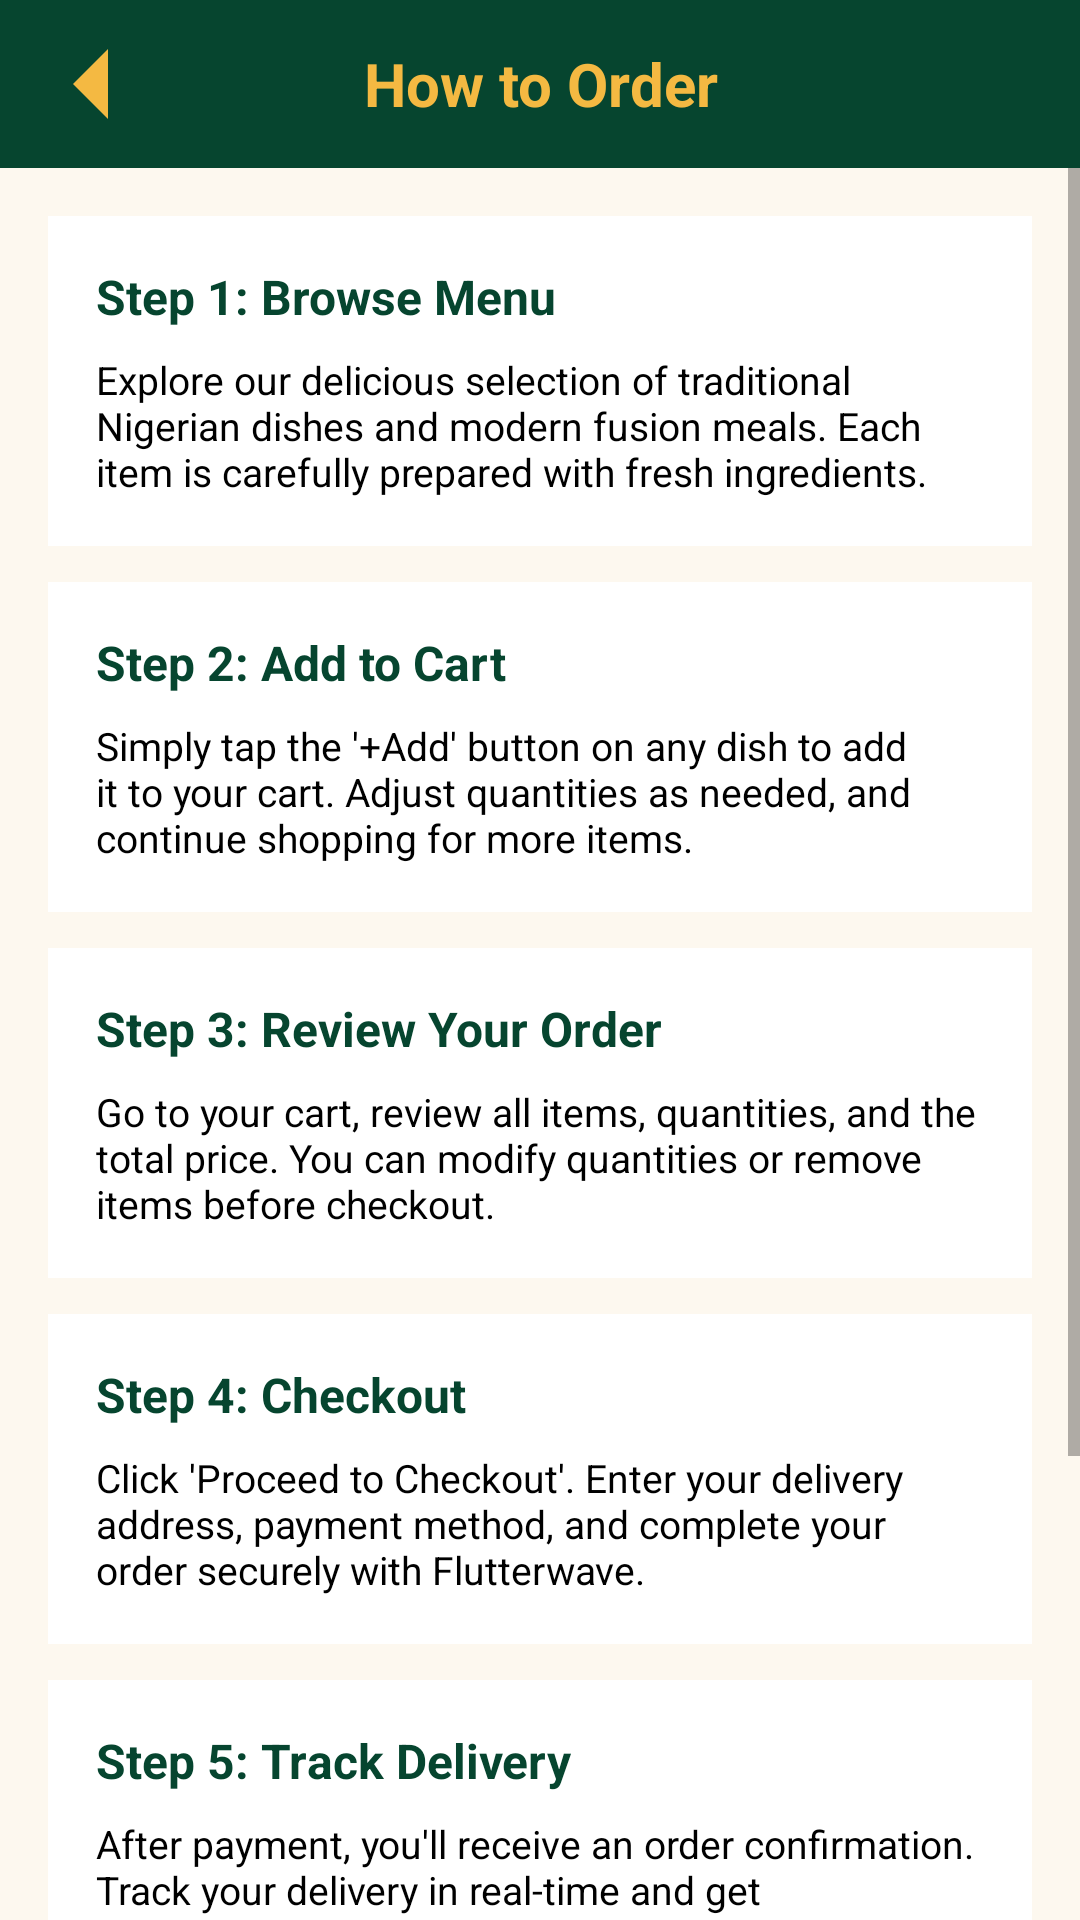

Icons on this 1080×1920 Android screen, each with the point to tap as point (x, y):
Back: point (90, 84)
